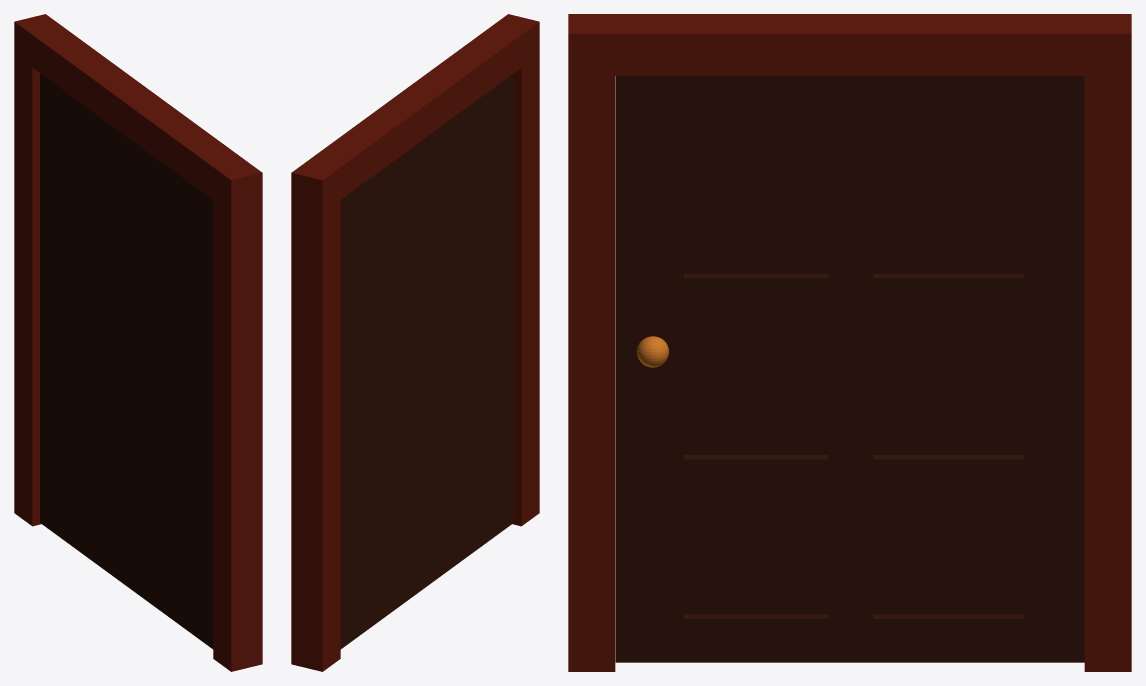
File: Doorfix.obj
The picture shows the model from 3 angles, left to right: view 1: azimuth 30°, elevation 25°; view 2: azimuth 150°, elevation 25°; view 3: azimuth 270°, elevation 25°; orthographic projection. The views are drawn at different scales.
Visible parts, largest first — view 1: Cube.001, Cube; view 2: Cube.001, Cube; view 3: Cube.001, Cube, Sphere.
Boxes of the visible parts, x1=… form: Cube.001: x1=40, y1=73, x2=213, y2=649; Cube: x1=14, y1=14, x2=262, y2=671; Cube.001: x1=340, y1=73, x2=513, y2=649; Cube: x1=291, y1=14, x2=539, y2=671; Cube.001: x1=615, y1=76, x2=1084, y2=662; Cube: x1=568, y1=14, x2=1131, y2=671; Sphere: x1=637, y1=336, x2=668, y2=367.
Size of the model in its own units: 0.5146 by 7.5 by 6.
